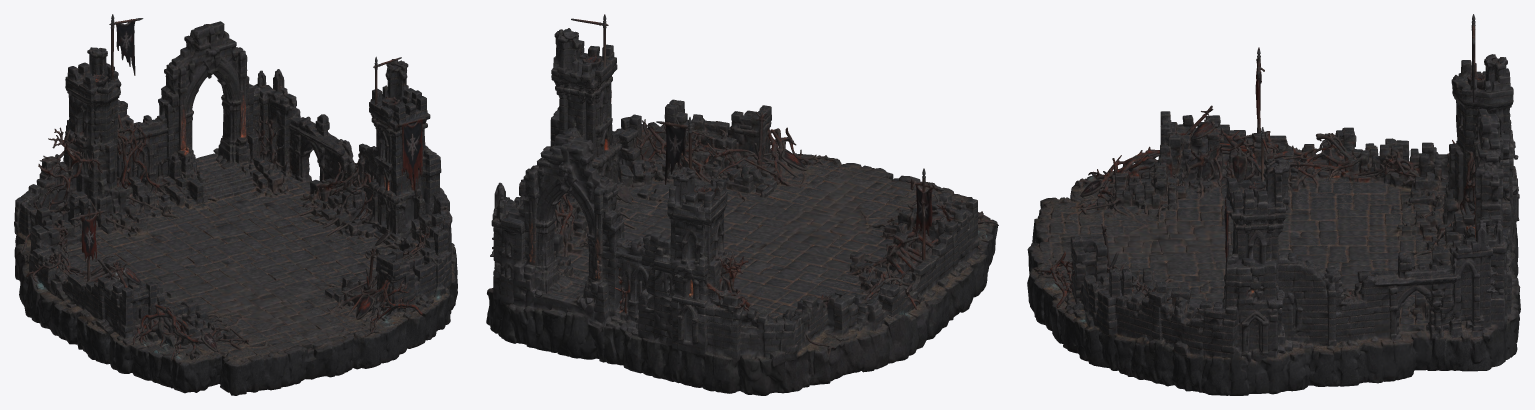
Rendered from battlefield.glb.
3 renders of one model, left to right at view 1: azimuth 30°, elevation 25°; view 2: azimuth 150°, elevation 25°; view 3: azimuth 270°, elevation 25°, orthographic. The views are drawn at different scales.
Bounding box in the file's own units: 1.88 × 1.1 × 1.9.
1 material, 1 textured.
